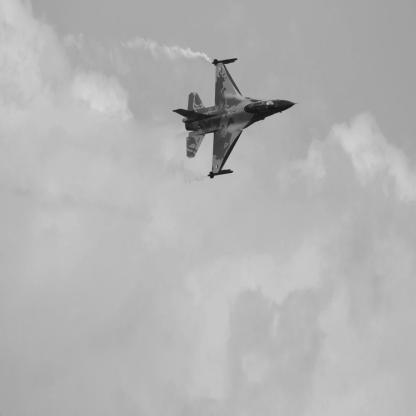F16: (173, 59, 301, 180)
